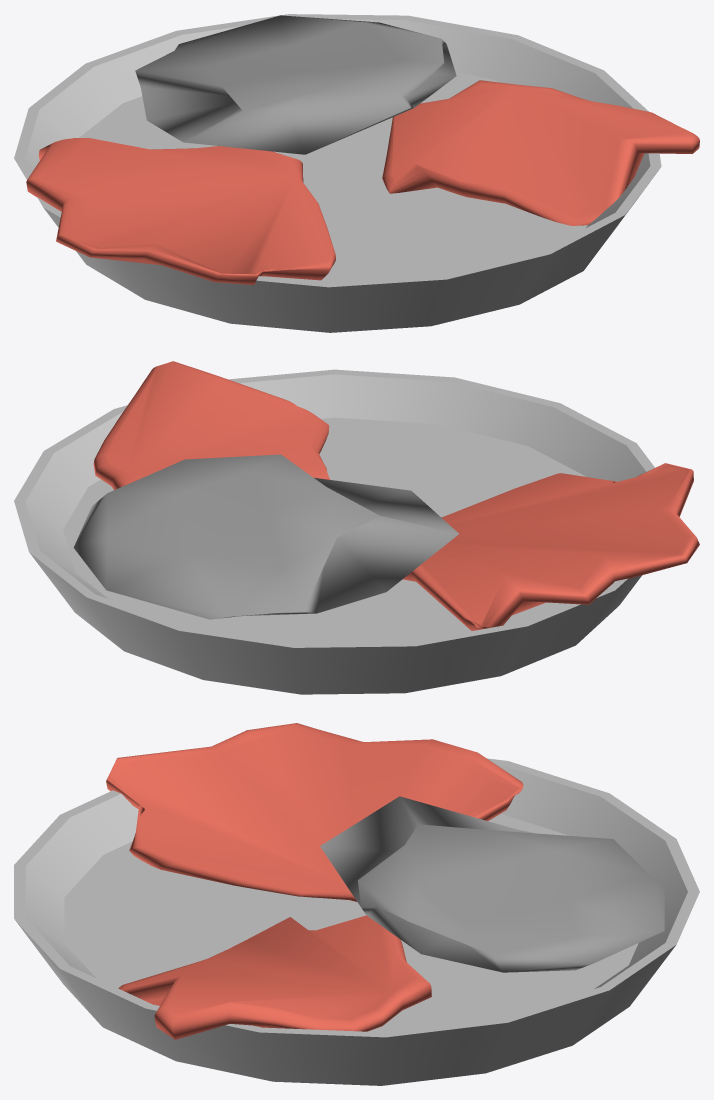
The model's file is pisTabak.fbx.
3 renders of one model, top to bottom at view 1: azimuth 30°, elevation 25°; view 2: azimuth 150°, elevation 25°; view 3: azimuth 270°, elevation 25°, orthographic. The views are drawn at different scales.
Visible parts, largest first — view 1: tabak.003, pistabak.001, pistabak.002, pistabak.003; view 2: tabak.003, pistabak.002, pistabak.001, pistabak.003; view 3: tabak.003, pistabak.001, pistabak.002, pistabak.003.
Part boxes in pixels (x1,y1,x2,y2): tabak.003: [14, 14, 661, 332]; pistabak.001: [26, 138, 335, 284]; pistabak.002: [135, 15, 456, 154]; pistabak.003: [382, 80, 699, 225]; tabak.003: [14, 369, 654, 694]; pistabak.002: [73, 454, 458, 619]; pistabak.001: [403, 463, 699, 630]; pistabak.003: [93, 361, 330, 489]; tabak.003: [14, 758, 699, 1085]; pistabak.001: [106, 723, 523, 901]; pistabak.002: [320, 796, 664, 972]; pistabak.003: [118, 915, 431, 1039].
Size of the model in its own units: 163 by 28.5 by 155.
